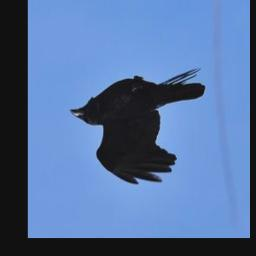Crow: (69, 66, 206, 185)
